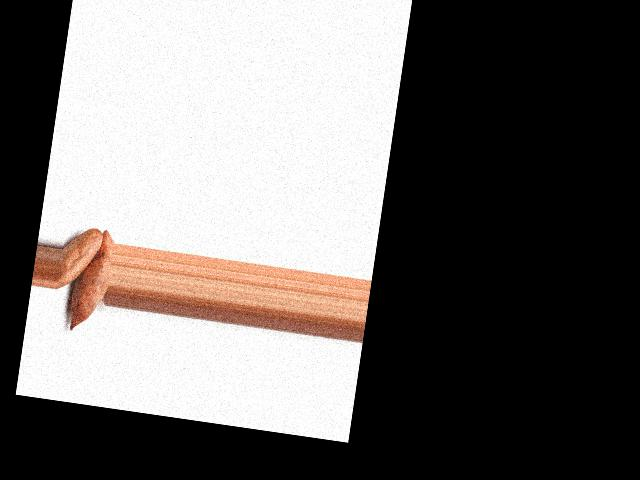sweet_potato: (55, 223, 103, 298)
